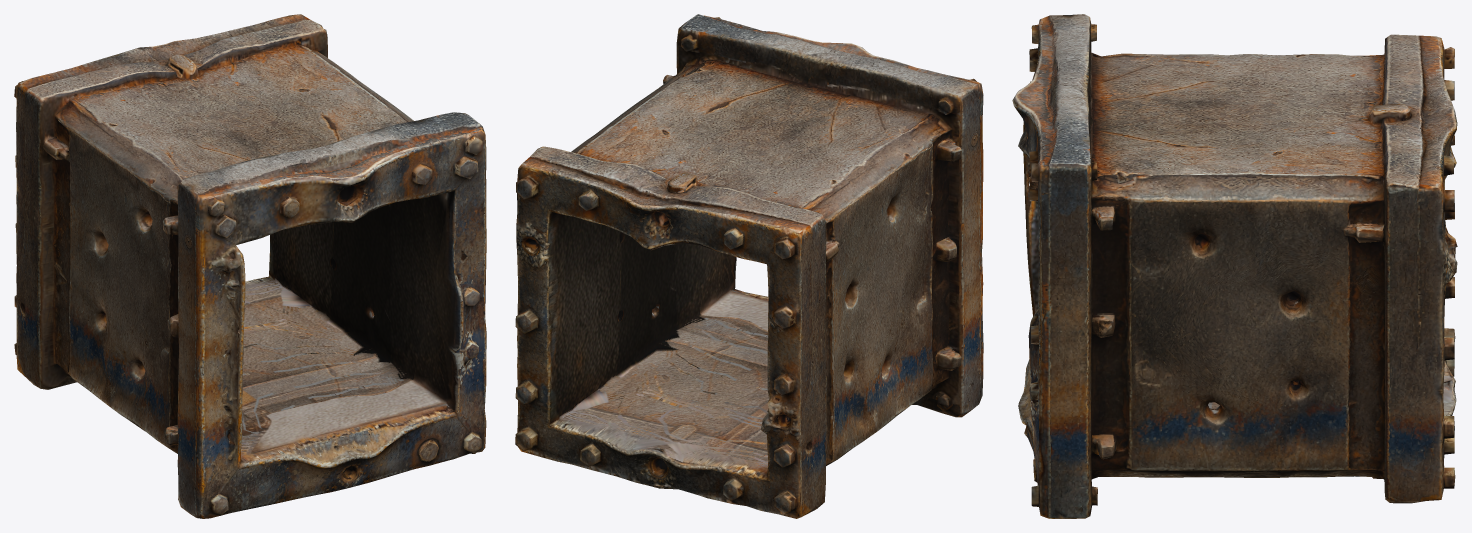
Rendered from BK_VentFrame_Damaged.fbx.
3 views of the same model, side by side, from view 1: azimuth 30°, elevation 25°; view 2: azimuth 150°, elevation 25°; view 3: azimuth 270°, elevation 25° (orthographic). The views are drawn at different scales.
Parts seen in each view (by area): view 1: texture_mapping; view 2: texture_mapping; view 3: texture_mapping.
Part boxes in pixels (left/top/right/bottom): texture_mapping: left=14, top=14, right=486, bottom=518; texture_mapping: left=515, top=14, right=983, bottom=518; texture_mapping: left=1012, top=14, right=1457, bottom=518.
Size of the model in its own units: 0.8461 by 0.996 by 0.8873.
1 material, 1 textured.
